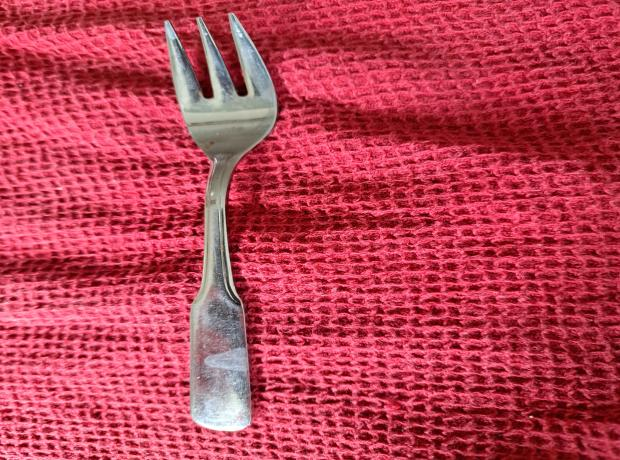metal: (160, 15, 285, 433)
